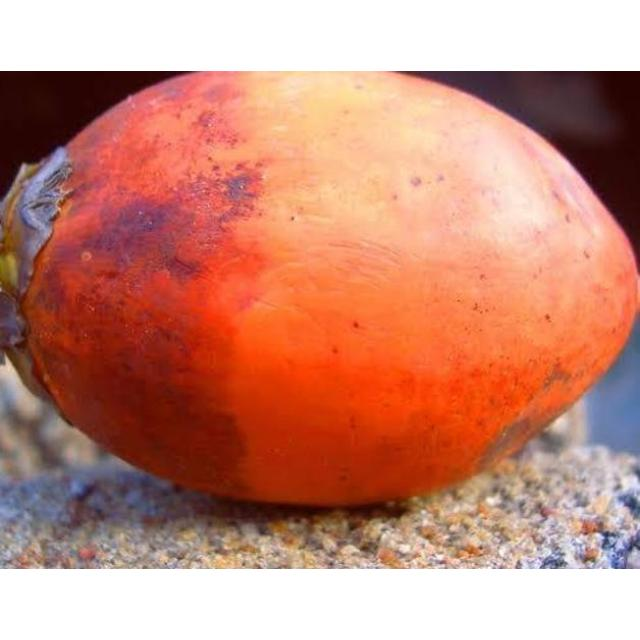good: (0, 71, 639, 512)
